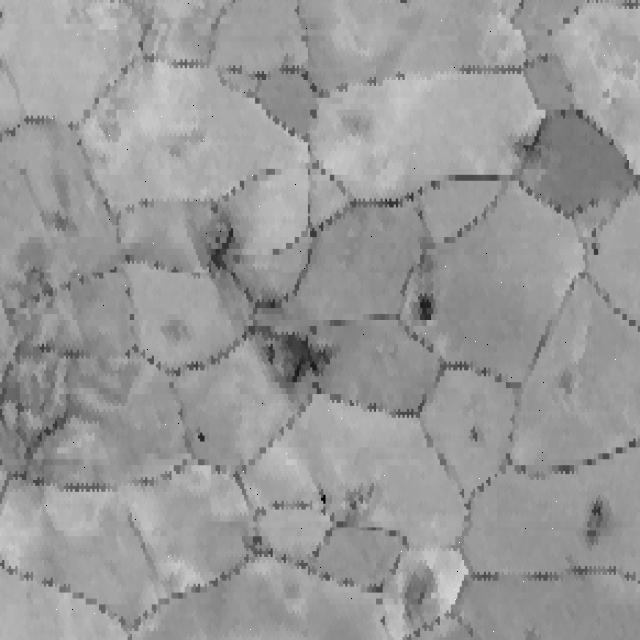good_void: (1, 260, 116, 485), (205, 225, 337, 399), (394, 555, 451, 629), (42, 171, 86, 243), (338, 468, 382, 523), (512, 133, 544, 168), (590, 505, 609, 542), (247, 527, 271, 555), (419, 295, 438, 328), (196, 424, 218, 452), (461, 420, 482, 448), (586, 237, 605, 265), (313, 488, 329, 510)
